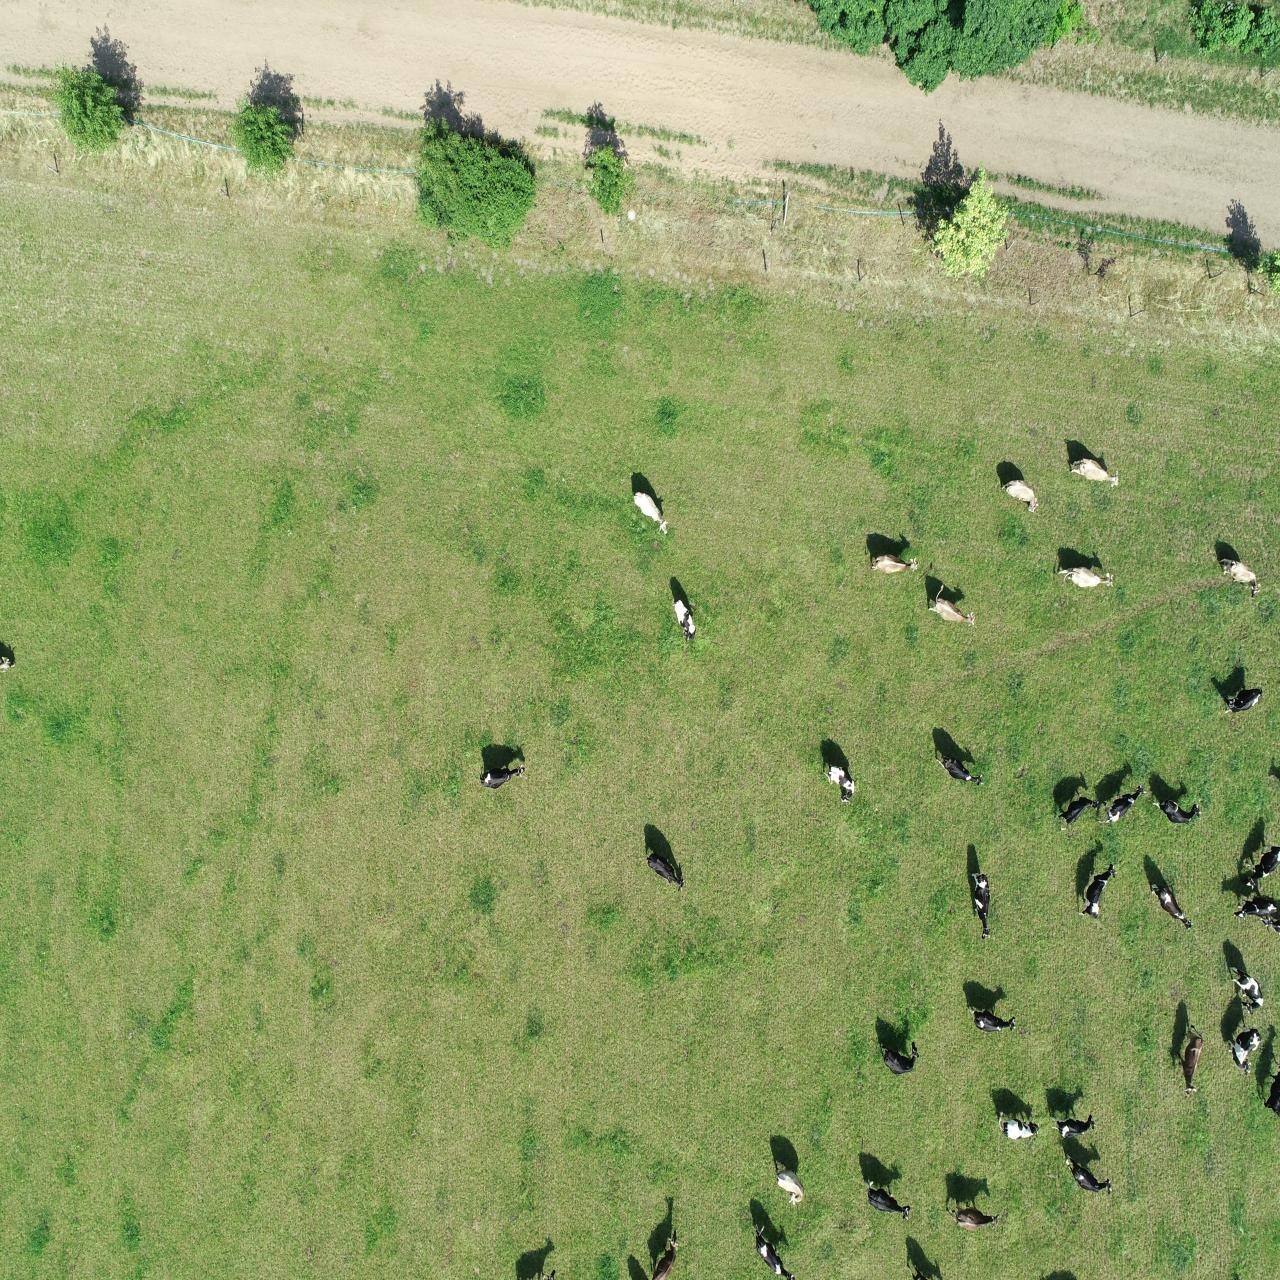cow: (1092, 776, 1148, 829), (1077, 859, 1118, 926), (1148, 879, 1197, 934), (1062, 1151, 1117, 1200), (926, 581, 980, 629), (1221, 1021, 1264, 1081), (860, 1177, 911, 1225), (1175, 1022, 1206, 1097), (753, 1224, 795, 1280), (1150, 789, 1205, 831), (931, 749, 985, 791), (942, 1198, 1001, 1235), (1226, 962, 1266, 1016), (1067, 452, 1121, 491), (645, 847, 688, 894), (1218, 553, 1261, 599), (1055, 561, 1116, 592), (968, 870, 994, 941), (1054, 792, 1098, 833), (632, 490, 669, 538), (866, 547, 919, 581), (966, 1006, 1019, 1039), (877, 1041, 922, 1078), (1047, 1108, 1098, 1141), (995, 1107, 1041, 1143), (1001, 474, 1040, 516), (648, 1228, 680, 1279), (668, 597, 701, 645), (1220, 682, 1265, 717), (477, 761, 527, 791), (822, 761, 855, 806), (774, 1165, 804, 1208)
